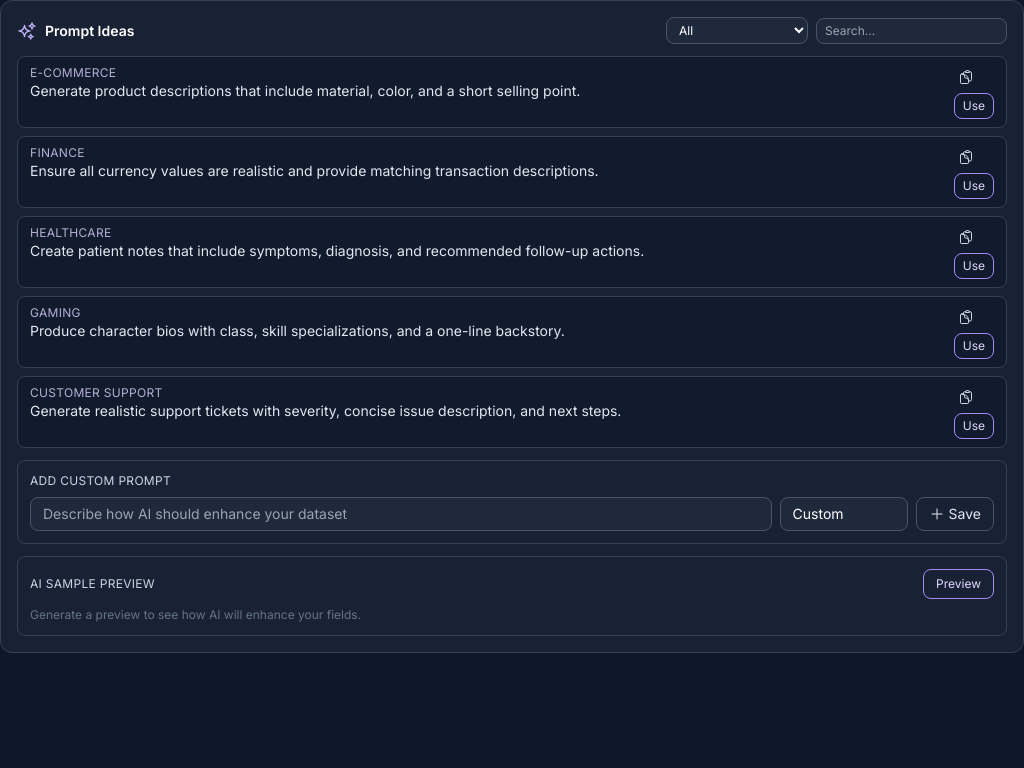
Test: AIPromptSuggestions › adds a custom prompt and renders it in the list
Type "Generate sci-fi planet descriptions." into the field with placeholder "Describe how AI should enhance your dataset" at (401, 514), box [30,497,772,531]
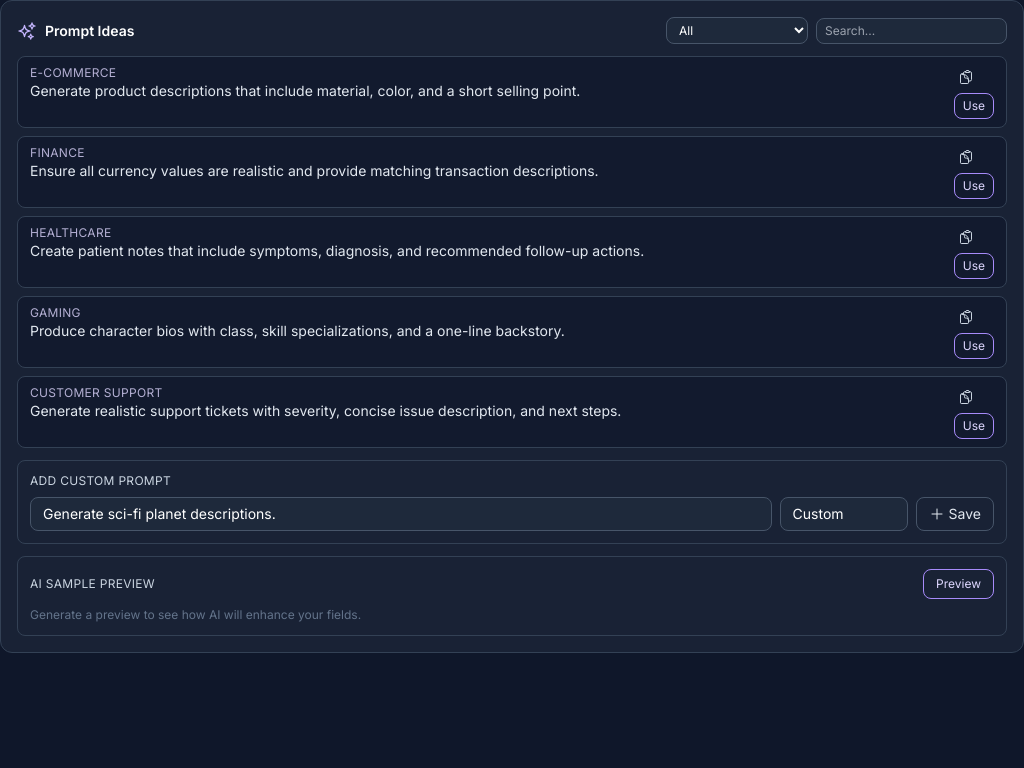
Click the button "Save" at (955, 514), box [916,497,994,531]
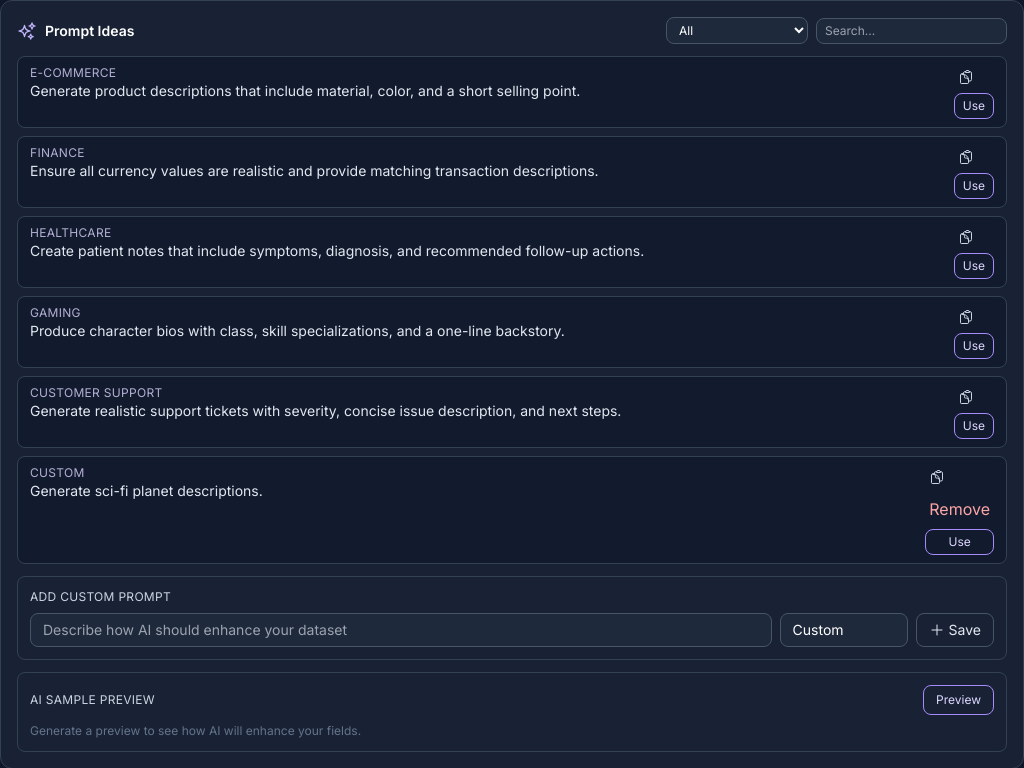
Expected: the text "Generate sci-fi planet descriptions." is shown, [30,482,263,499]
